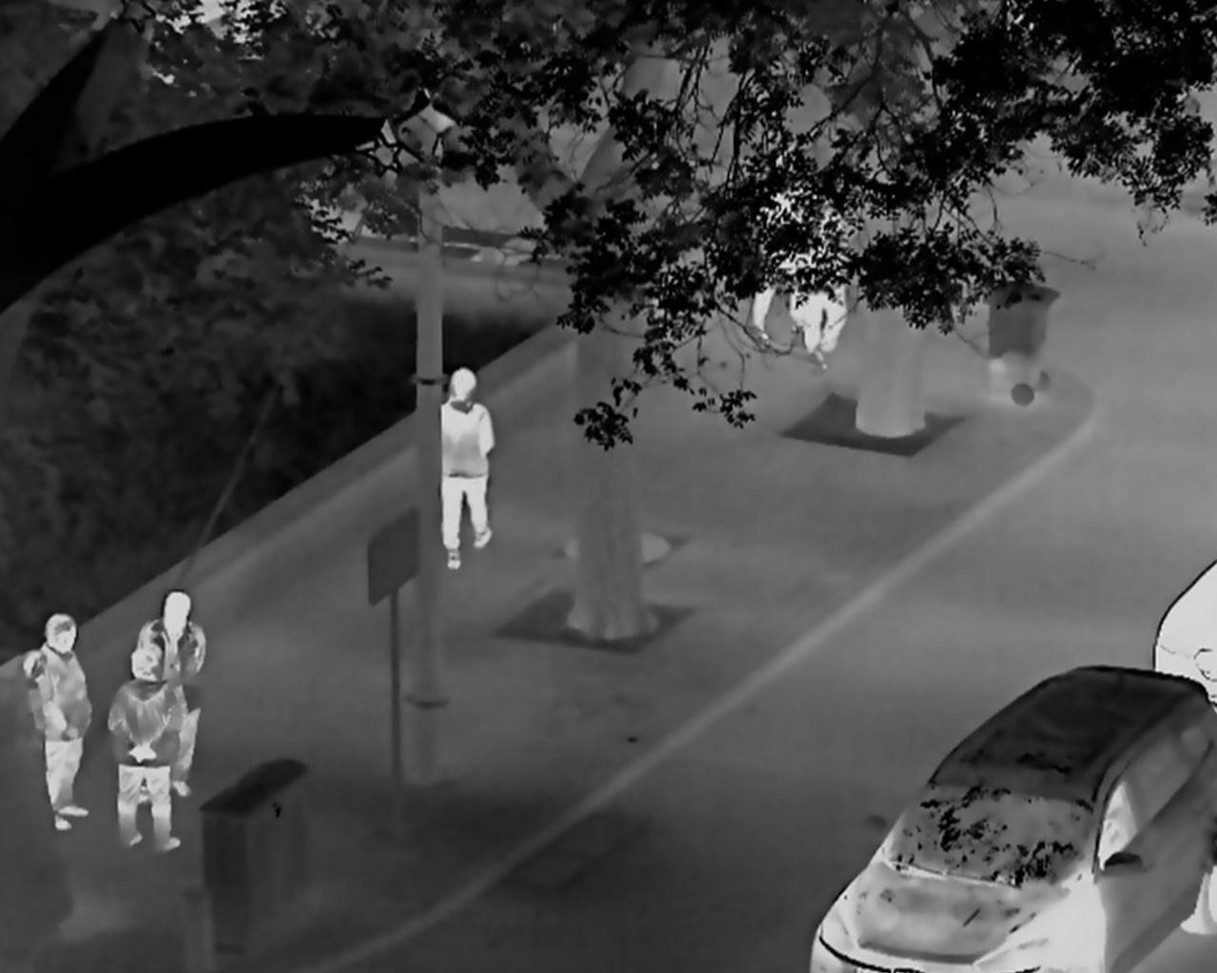person: (106, 643, 184, 854), (132, 590, 208, 799), (36, 611, 93, 833), (439, 367, 497, 572), (789, 196, 849, 371), (749, 188, 789, 345), (19, 649, 47, 742)
